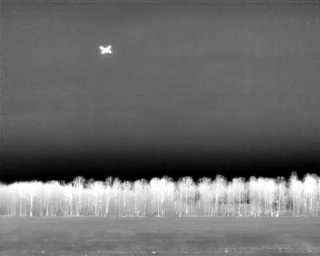DRONE: (95, 41, 117, 60)
